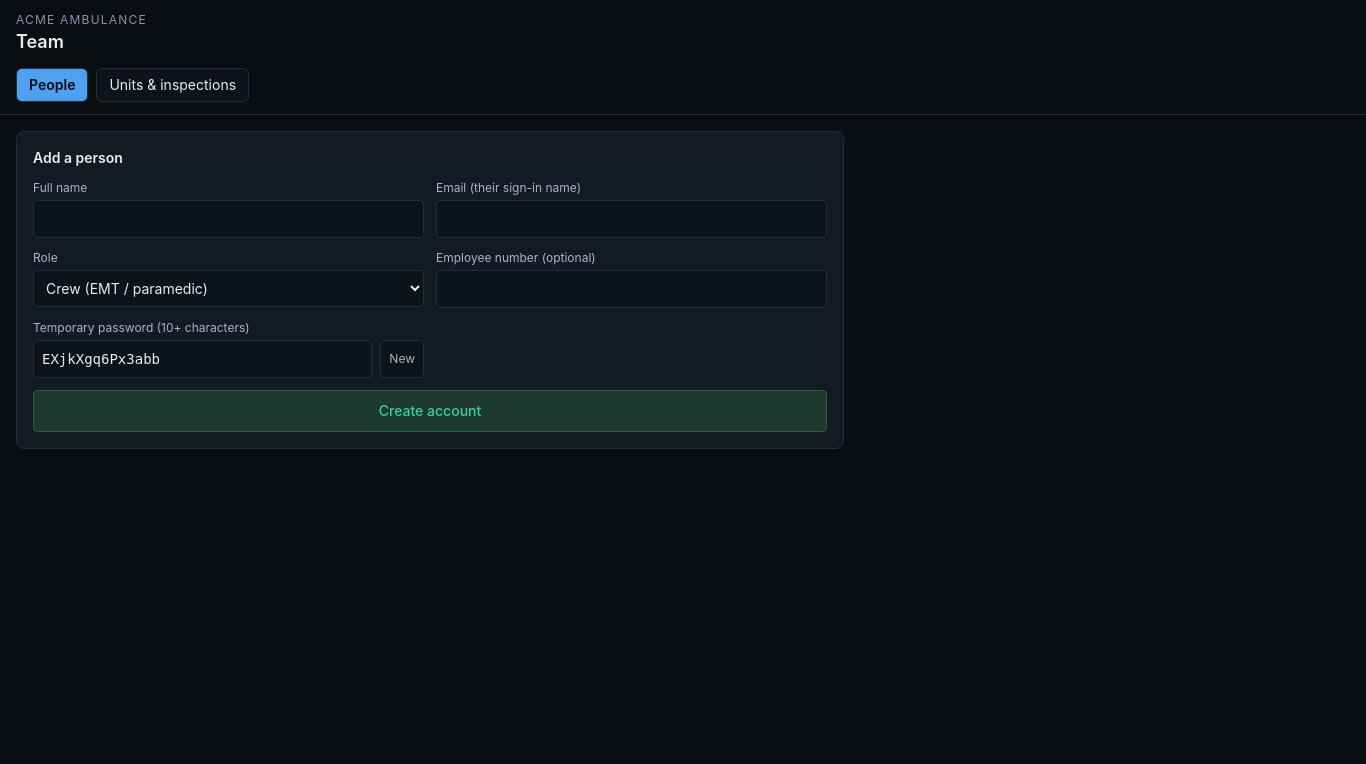
team admin › creates a person and shows the temporary password once
Type "Casey Medic" into the field labelled "Full name".
click(228, 219); type("Casey Medic")  # box [33,200,424,238]
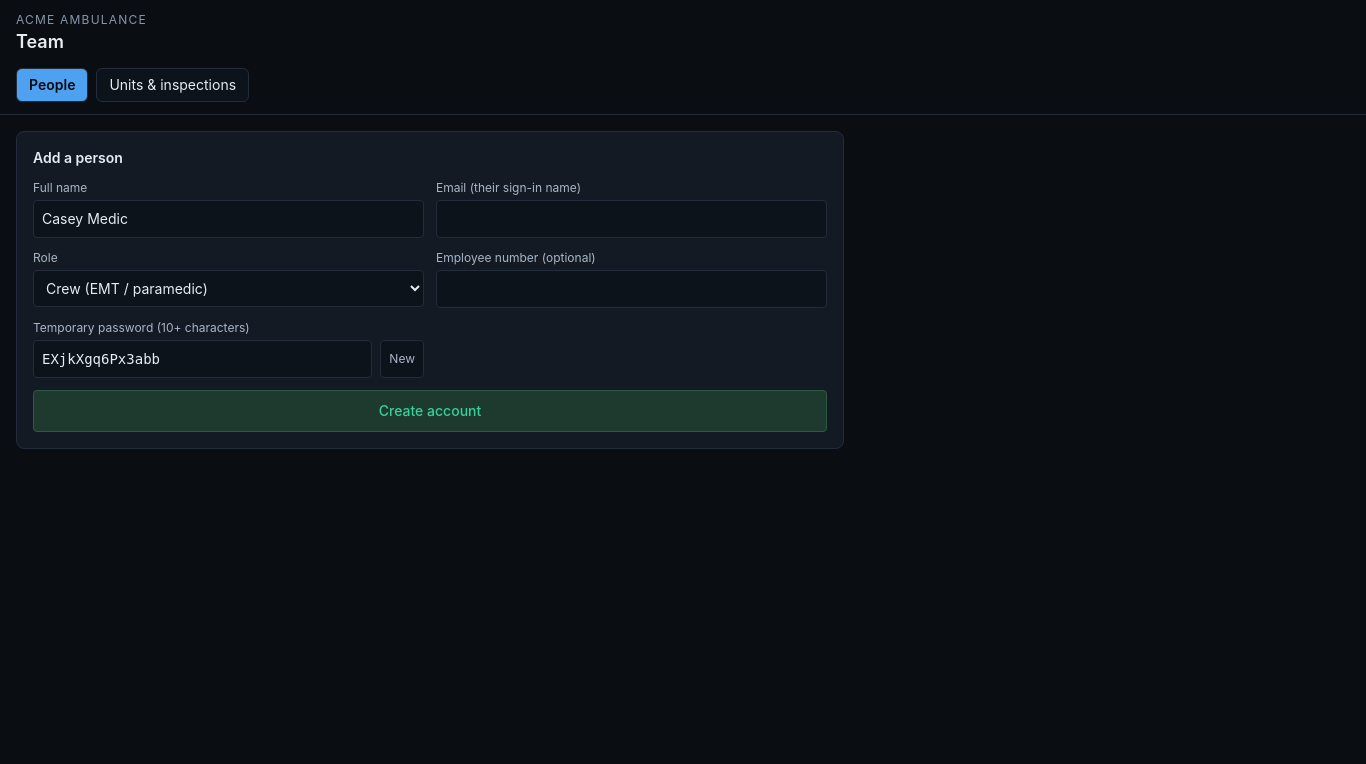
Type "casey@a.test" into the field labelled "Email (their sign-in name)".
click(632, 219); type("casey@a.test")  # box [436,200,827,238]
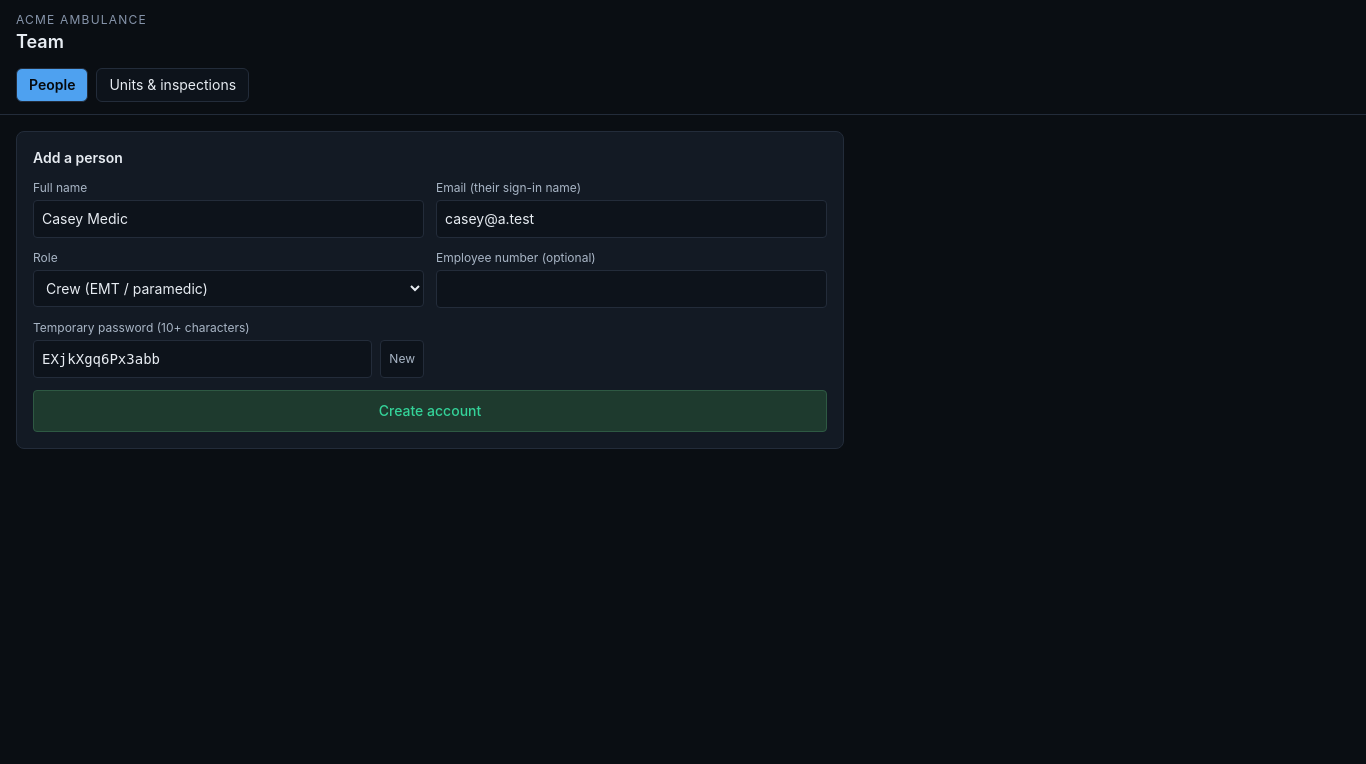
Click the button "Create account".
click(430, 411)  # box [33,390,827,432]
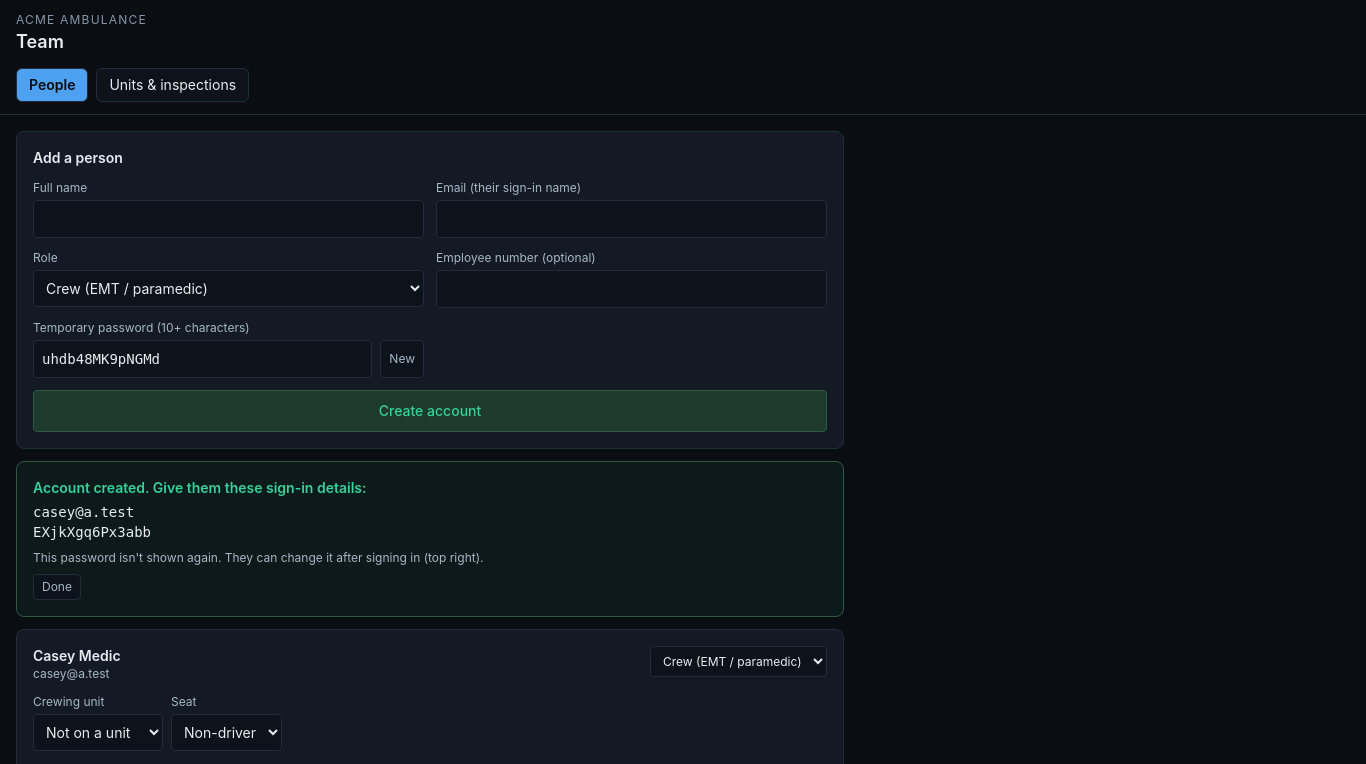
Expected: the text "Account created. Give them these sign-in details:" is shown, [33,479,366,496]
Expected: the text "Casey Medic" is shown, [33,646,121,666]
